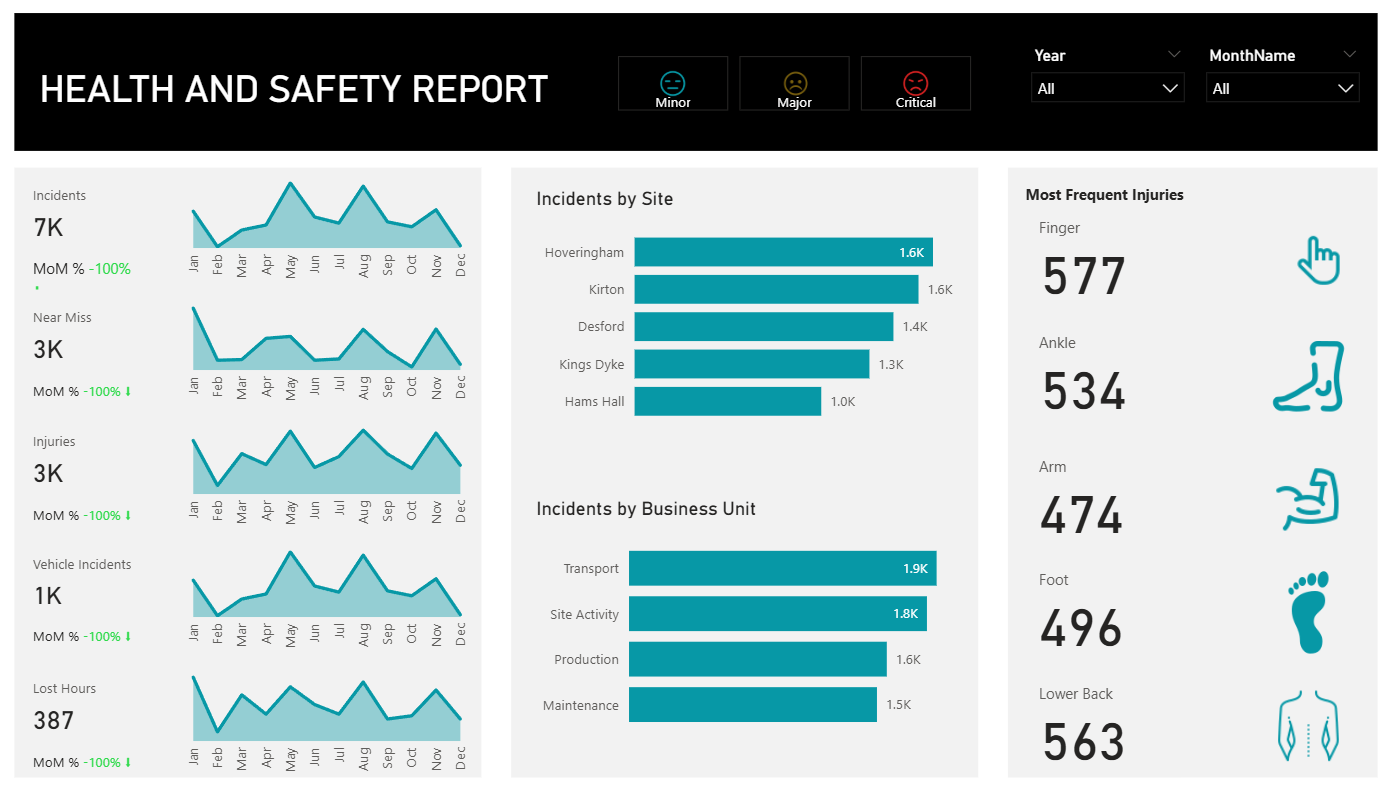

The page's visual inventory and layout, read from the dashboard file:
{"tool":"powerbi","page":{"name":"Minor","canvas":[1280,720],"ordinal":0},"visuals":[{"type":"slicer","fields":{"Values":["Calendar.MonthName"]},"box":[1088.4,47.7,158,70],"z":0},{"type":"image","box":[581.9,68.3,75.2,35.1],"z":0,"group":"g6"},{"type":"slicer","fields":{"Values":["Calendar.Year"]},"box":[930.8,47.7,157.6,70],"z":1000},{"type":"image","box":[692.3,68.3,75.2,35.1],"z":1000,"group":"g6"},{"type":"image","box":[799.6,68.3,75.2,35.1],"z":2000,"group":"g6"},{"type":"group","id":"g1","title":"Group 2","box":[28.2,160.5,414.3,115.7],"z":2000},{"type":"cardVisual","fields":{"Data":["Sum(Data.Incidents)"]},"box":[28.2,160.5,132.3,115],"z":2000,"group":"g1"},{"type":"cardVisual","fields":{"Data":["Sum(Data.Near Miss)"]},"box":[28.2,270.6,132.3,115],"z":2000,"group":"g2"},{"type":"cardVisual","fields":{"Data":["Sum(Data.Injuries)"]},"box":[28.2,381.4,132.3,115],"z":2000,"group":"g3"},{"type":"cardVisual","fields":{"Data":["Sum(Data.Vehicle Incidents)"]},"box":[28.2,492.2,132.3,115],"z":2000,"group":"g4"},{"type":"cardVisual","fields":{"Data":["Sum(Data.Lost Hours)"]},"box":[28.2,603,132.3,115],"z":2000,"group":"g5"},{"type":"pageNavigator","box":[570,61.1,318.5,49.3],"z":3000,"group":"g6"},{"type":"areaChart","fields":{"Y":["Sum(Data.Incidents)"],"Category":["Calendar.MonthName"]},"box":[167.3,160.5,275.3,115.7],"z":3000,"group":"g1"},{"type":"group","id":"g2","title":"Group 2","box":[28.2,270.6,414.3,115.7],"z":3000},{"type":"areaChart","fields":{"Y":["Sum(Data.Near Miss)"],"Category":["Calendar.MonthName"]},"box":[167.3,270.6,275.3,115.7],"z":3000,"group":"g2"},{"type":"areaChart","fields":{"Y":["Sum(Data.Injuries)"],"Category":["Calendar.MonthName"]},"box":[167.3,381.4,275.3,115.7],"z":3000,"group":"g3"},{"type":"areaChart","fields":{"Y":["Sum(Data.Incidents)"],"Category":["Calendar.MonthName"]},"box":[167.3,492.2,275.3,115.7],"z":3000,"group":"g4"},{"type":"areaChart","fields":{"Y":["Sum(Data.Lost Hours)"],"Category":["Calendar.MonthName"]},"box":[167.3,603,275.3,115.7],"z":3000,"group":"g5"},{"type":"group","id":"g3","title":"Group 2","box":[28.2,381.4,414.3,115.7],"z":4000},{"type":"group","id":"g4","title":"Group 2","box":[28.2,492.2,414.3,115.7],"z":5000},{"type":"group","id":"g5","title":"Group 2","box":[28.2,603,414.3,115.7],"z":6000},{"type":"barChart","fields":{"Category":["Data. Site"],"Y":["Sum(Data.Incidents)"]},"box":[492.2,179,390,224.7],"z":7000},{"type":"barChart","fields":{"Y":["Sum(Data.Incidents)"],"Category":["Data.Business Unit"]},"box":[492.2,457.1,390,224.7],"z":8000},{"type":"textbox","box":[930.8,171.2,157.6,34],"z":9000},{"type":"cardVisual","fields":{"Data":["Sum(Data.Injuries)"]},"box":[930.8,188.7,315.1,99],"z":10000},{"type":"cardVisual","fields":{"Data":["Sum(Data.Injuries)"]},"box":[930.8,402.7,315,99],"z":11000},{"type":"cardVisual","fields":{"Data":["Sum(Data.Injuries)"]},"box":[930.8,504.8,315,99],"z":12000},{"type":"cardVisual","fields":{"Data":["Sum(Data.Injuries)"]},"box":[930.8,291.8,315.1,99],"z":13000},{"type":"cardVisual","fields":{"Data":["Sum(Data.Injuries)"]},"box":[930.8,606.9,315,99],"z":14000},{"type":"textbox","box":[45.7,66.1,472.7,51.6],"z":15000},{"type":"group","id":"g6","title":"Group 1","box":[570,61.1,318.5,49.3],"z":16000}]}

Visuals, with their boxes in screenshot pixels (x1, y1, x2, y2), scaled from the page's 1280x720 canvas onto the 1387x786 screenshot:
slicer - Calendar.MonthName: <box>1179,52,1351,128</box>
image: <box>631,75,712,113</box>
slicer - Calendar.Year: <box>1009,52,1179,128</box>
image: <box>750,75,832,113</box>
image: <box>866,75,948,113</box>
"Group 2" group: <box>31,175,479,302</box>
cardVisual - Sum(Data.Incidents): <box>31,175,174,301</box>
cardVisual - Sum(Data.Near Miss): <box>31,295,174,421</box>
cardVisual - Sum(Data.Injuries): <box>31,416,174,542</box>
cardVisual - Sum(Data.Vehicle Incidents): <box>31,537,174,663</box>
cardVisual - Sum(Data.Lost Hours): <box>31,658,174,784</box>
pageNavigator: <box>618,67,963,121</box>
areaChart - Sum(Data.Incidents) x Calendar.MonthName: <box>181,175,480,302</box>
"Group 2" group: <box>31,295,479,422</box>
areaChart - Sum(Data.Near Miss) x Calendar.MonthName: <box>181,295,480,422</box>
areaChart - Sum(Data.Injuries) x Calendar.MonthName: <box>181,416,480,543</box>
areaChart - Sum(Data.Incidents) x Calendar.MonthName: <box>181,537,480,664</box>
areaChart - Sum(Data.Lost Hours) x Calendar.MonthName: <box>181,658,480,785</box>
"Group 2" group: <box>31,416,479,543</box>
"Group 2" group: <box>31,537,479,664</box>
"Group 2" group: <box>31,658,479,785</box>
barChart - Data. Site x Sum(Data.Incidents): <box>533,195,956,441</box>
barChart - Sum(Data.Incidents) x Data.Business Unit: <box>533,499,956,744</box>
textbox: <box>1009,187,1179,224</box>
cardVisual - Sum(Data.Injuries): <box>1009,206,1350,314</box>
cardVisual - Sum(Data.Injuries): <box>1009,440,1350,548</box>
cardVisual - Sum(Data.Injuries): <box>1009,551,1350,659</box>
cardVisual - Sum(Data.Injuries): <box>1009,319,1350,427</box>
cardVisual - Sum(Data.Injuries): <box>1009,663,1350,771</box>
textbox: <box>50,72,562,128</box>
"Group 1" group: <box>618,67,963,121</box>
